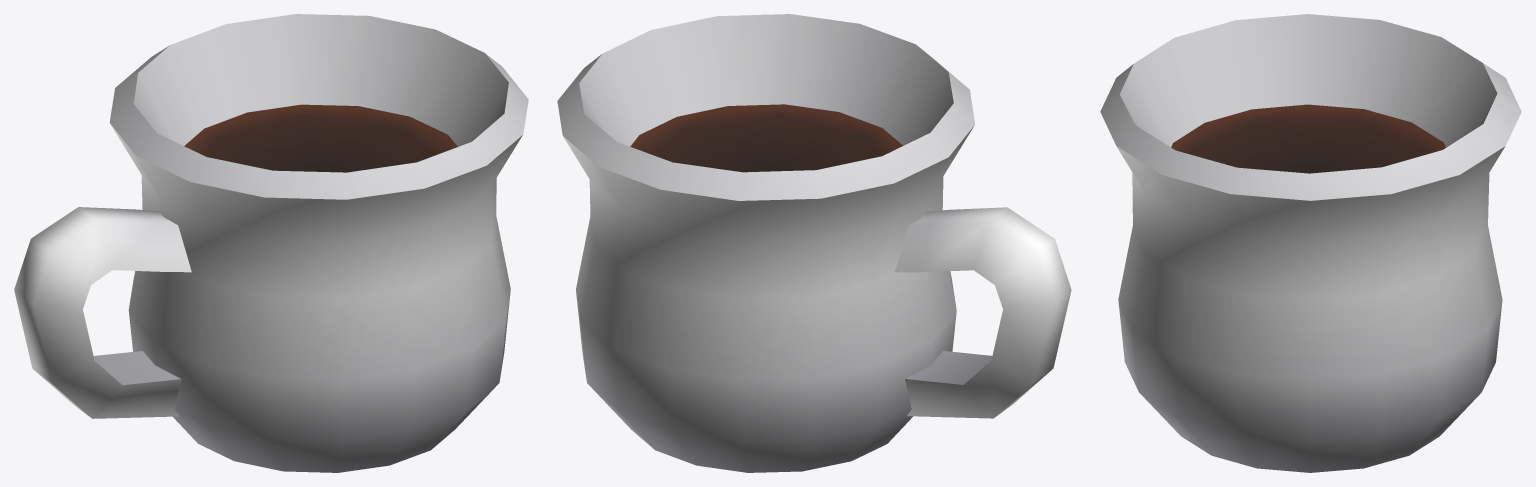
The model's file is m_FancyTea04.fbx.
3 renders of one model, left to right at view 1: azimuth 30°, elevation 25°; view 2: azimuth 150°, elevation 25°; view 3: azimuth 270°, elevation 25°, orthographic.
Visible parts, largest first — view 1: m_FancyTea04; view 2: m_FancyTea04; view 3: m_FancyTea04.
Part boxes in pixels (left/top/right/bottom): m_FancyTea04: left=14, top=14, right=528, bottom=472; m_FancyTea04: left=557, top=14, right=1071, bottom=472; m_FancyTea04: left=1100, top=14, right=1521, bottom=472.
Size of the model in its own units: 12.19 by 7.81 by 9.32.
